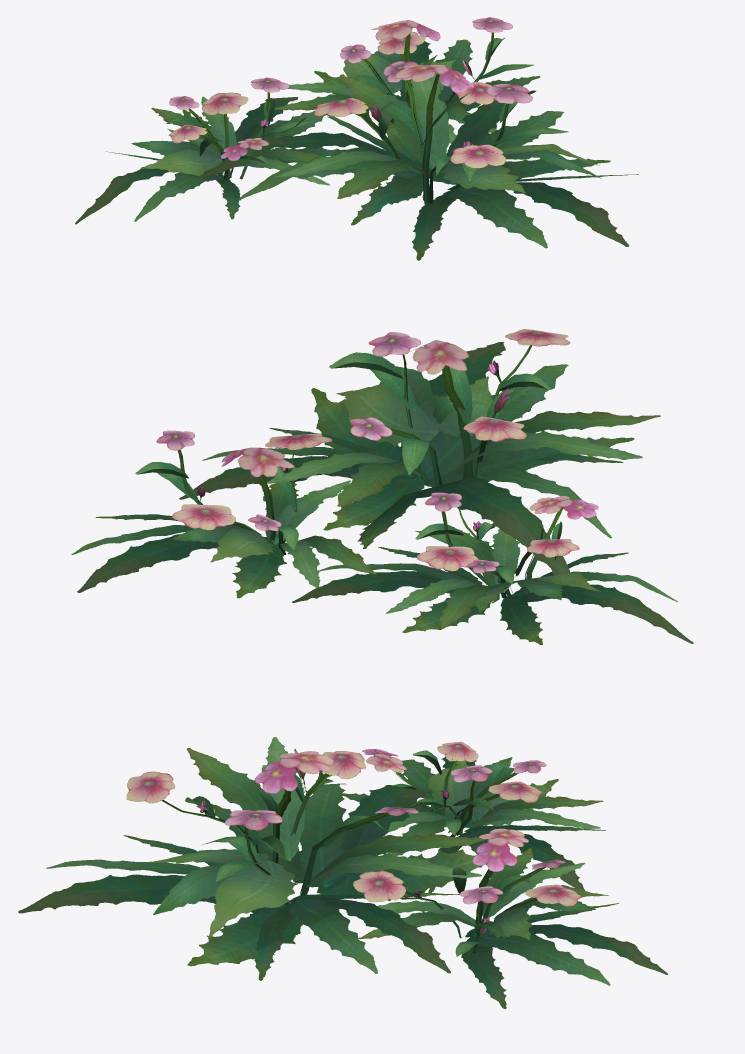
File: S_Plant_Green011.FBX
The picture shows the model from 3 angles, top to bottom: view 1: azimuth 30°, elevation 25°; view 2: azimuth 150°, elevation 25°; view 3: azimuth 270°, elevation 25°; orthographic projection. The views are drawn at different scales.
Parts seen in each view (by area): view 1: S_Plant_Green011; view 2: S_Plant_Green011; view 3: S_Plant_Green011.
Boxes of the visible parts, x1=… form: S_Plant_Green011: x1=75, y1=17, x2=638, y2=260; S_Plant_Green011: x1=71, y1=329, x2=693, y2=644; S_Plant_Green011: x1=18, y1=737, x2=667, y2=1008.
Bounding box in the file's own units: 56.18 × 14.46 × 56.61.
